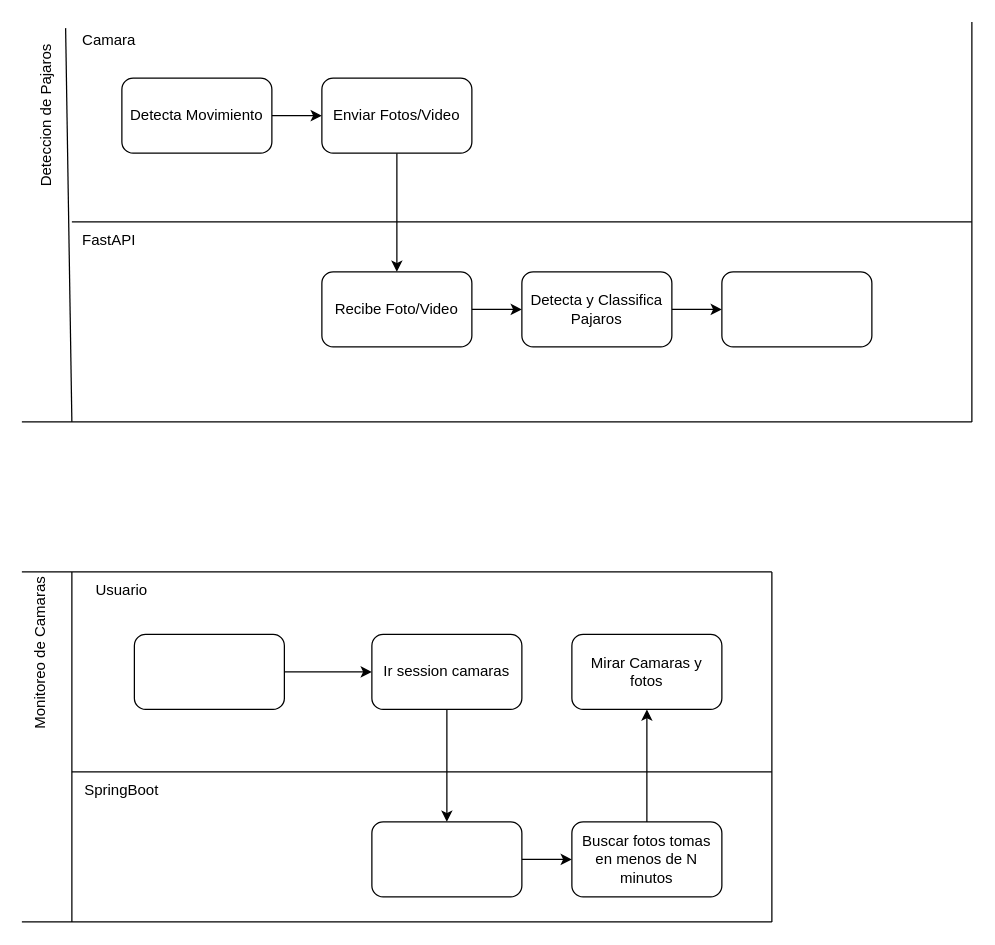
This 995x945 diagram has some shape labels left out. Here are the shapes that lost their labels. From the top down, the box of each, then its label:
(721, 271, 872, 347): Guarda en BD
(133, 633, 284, 709): Ingresa a la plataforma
(371, 821, 522, 897): Buscar camaras
